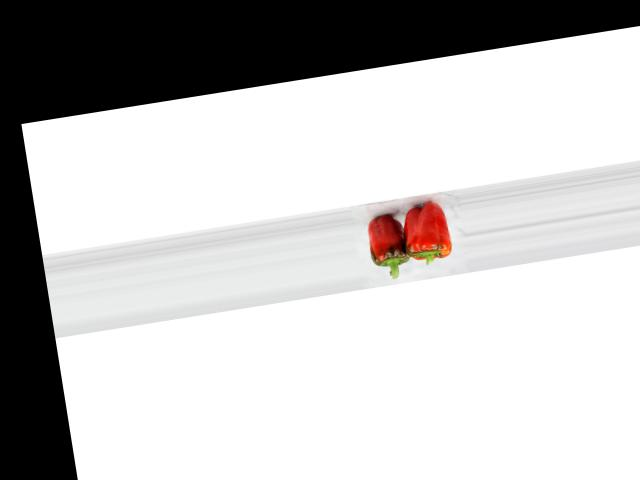bell_pepper: (400, 198, 462, 271)
